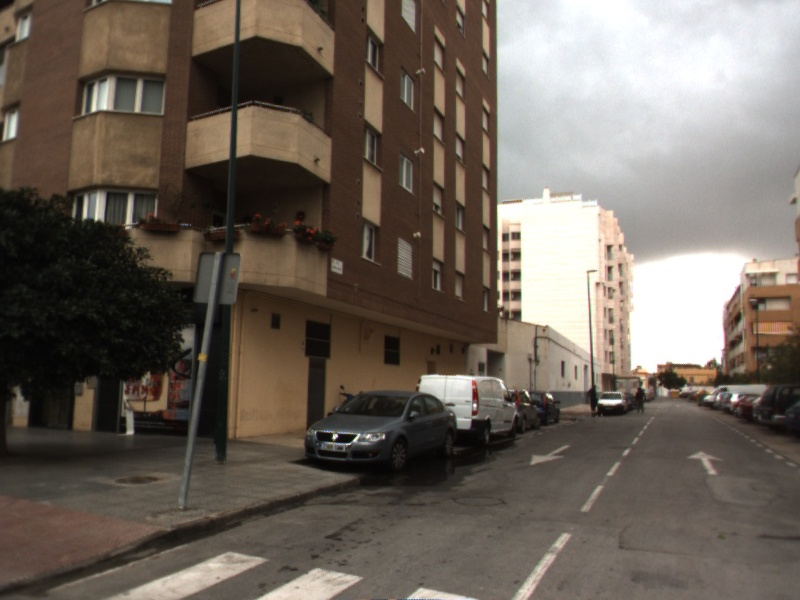STRAIGHT: (684, 450, 727, 476)
